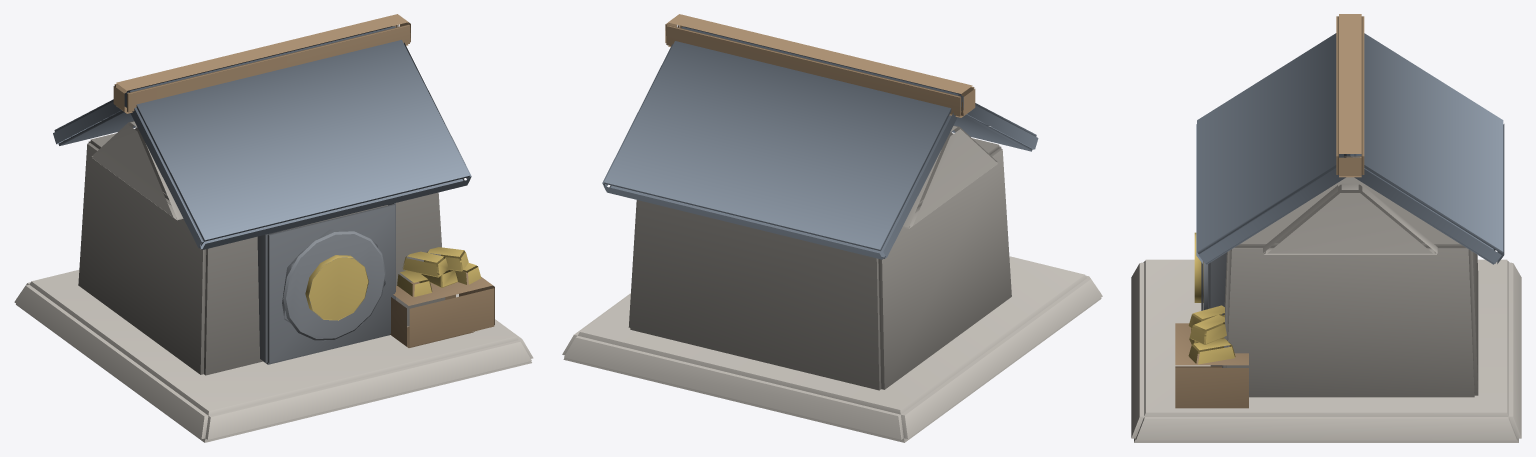
Rendered from gold_mine_vault_lod1.glb.
The picture shows the model from 3 angles, left to right: view 1: azimuth 30°, elevation 25°; view 2: azimuth 150°, elevation 25°; view 3: azimuth 270°, elevation 25°; orthographic projection. The views are drawn at different scales.
Visible parts, largest first — view 1: gold_mine_vault.001; view 2: gold_mine_vault.001; view 3: gold_mine_vault.001.
Part boxes in pixels (<box>): gold_mine_vault.001: <box>14,14,533,442</box>; gold_mine_vault.001: <box>562,14,1102,442</box>; gold_mine_vault.001: <box>1131,14,1521,442</box>.
Bounding box in the file's own units: 3.62 × 2.84 × 3.62.
